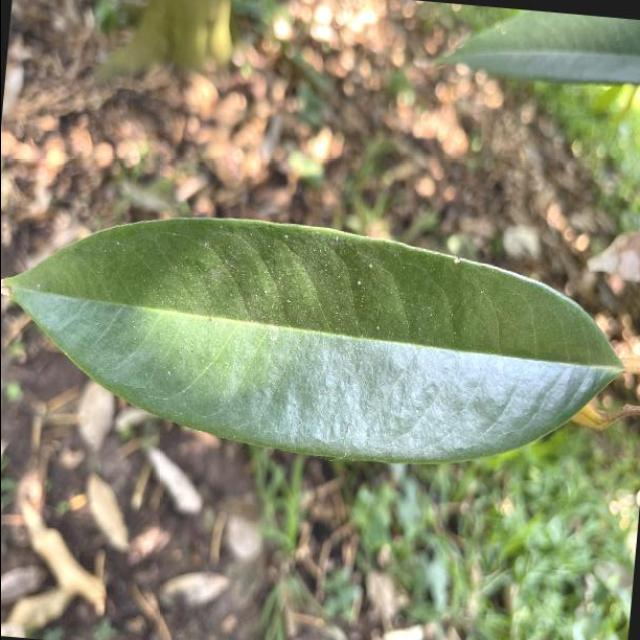No Disease: (0, 190, 640, 490)
